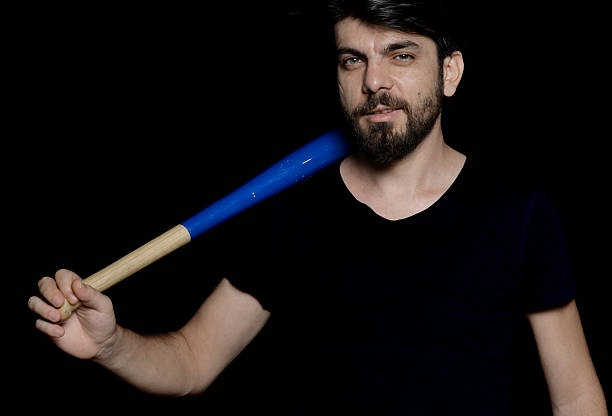bita: (63, 132, 348, 304)
